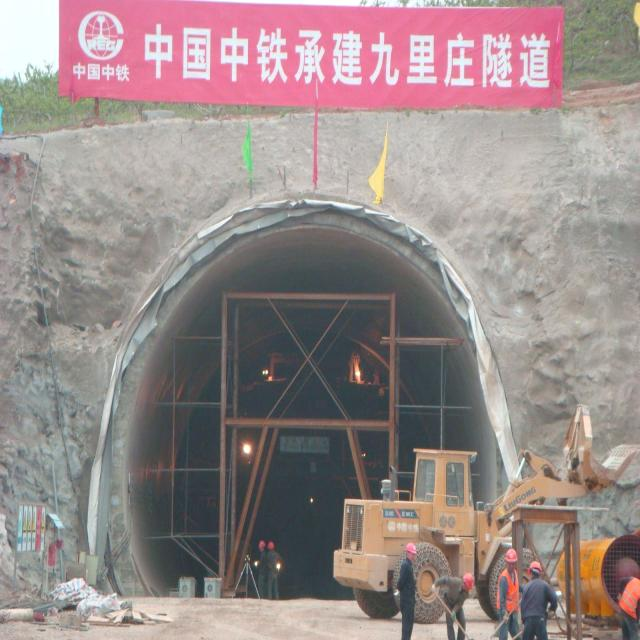head_helmet: (527, 558, 543, 576), (404, 540, 420, 555), (464, 575, 476, 588), (504, 550, 518, 561), (267, 539, 277, 547), (256, 540, 264, 549)
person: (521, 562, 558, 640), (434, 575, 477, 637), (493, 546, 521, 633), (398, 545, 420, 635), (615, 558, 640, 624), (266, 537, 284, 595), (252, 542, 267, 598)
vest: (618, 576, 640, 614), (500, 571, 520, 609)
